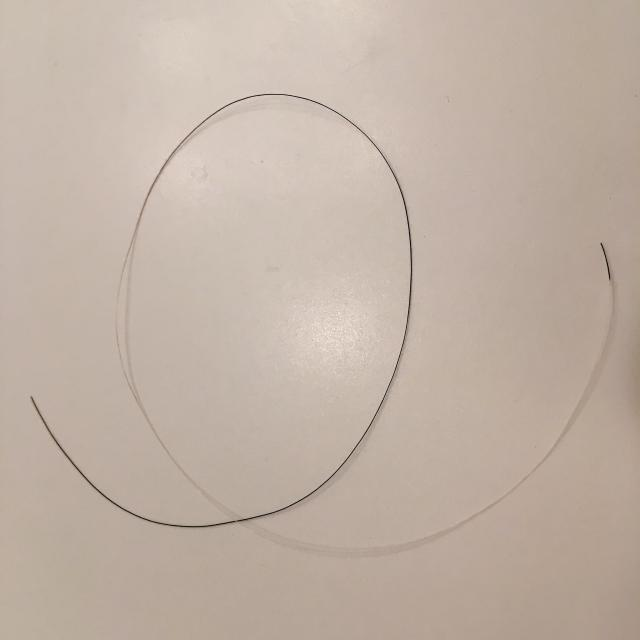hair: (24, 81, 628, 563)
